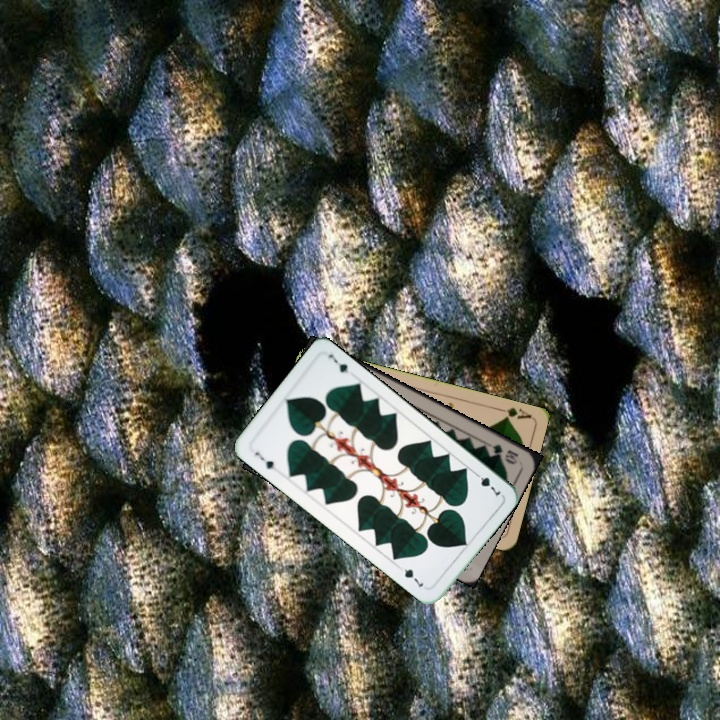G10: (482, 439, 521, 467)
G7: (470, 468, 503, 500), (250, 448, 277, 472)
GA: (493, 403, 533, 422)
